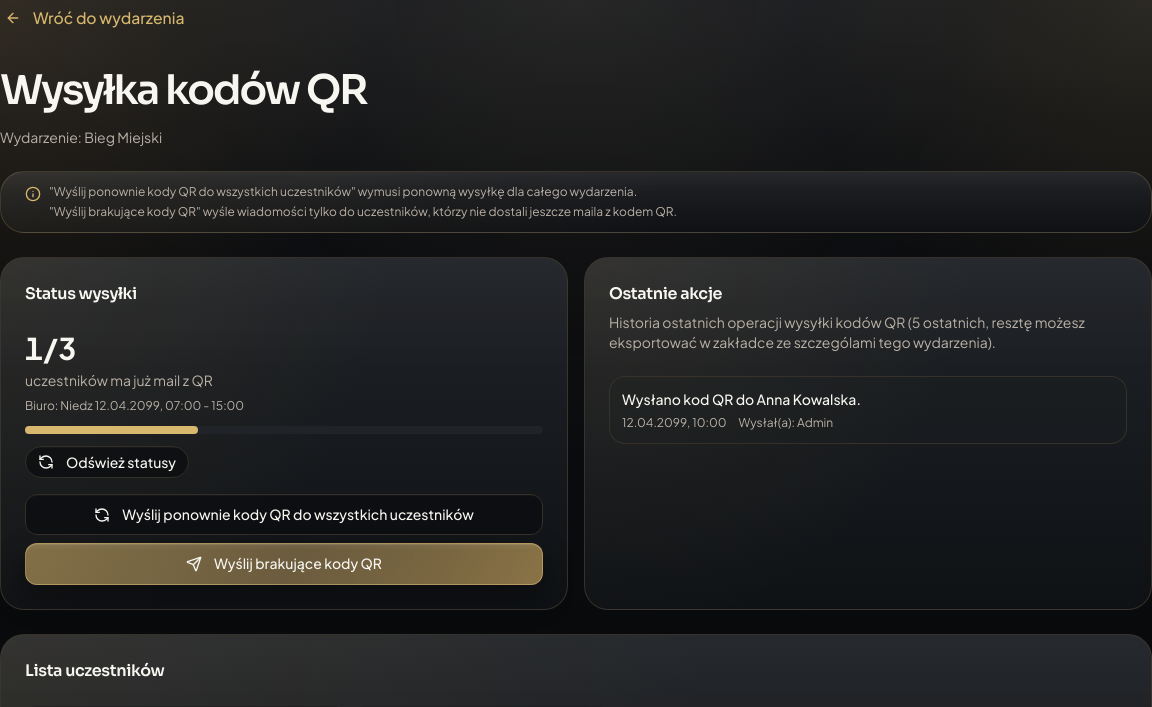
EmailSending page › counts only participants without a QR email in the confirmation modal
Step 1. Click the button "Wyślij brakujące kody QR" → (284,564), box [25, 543, 543, 585]
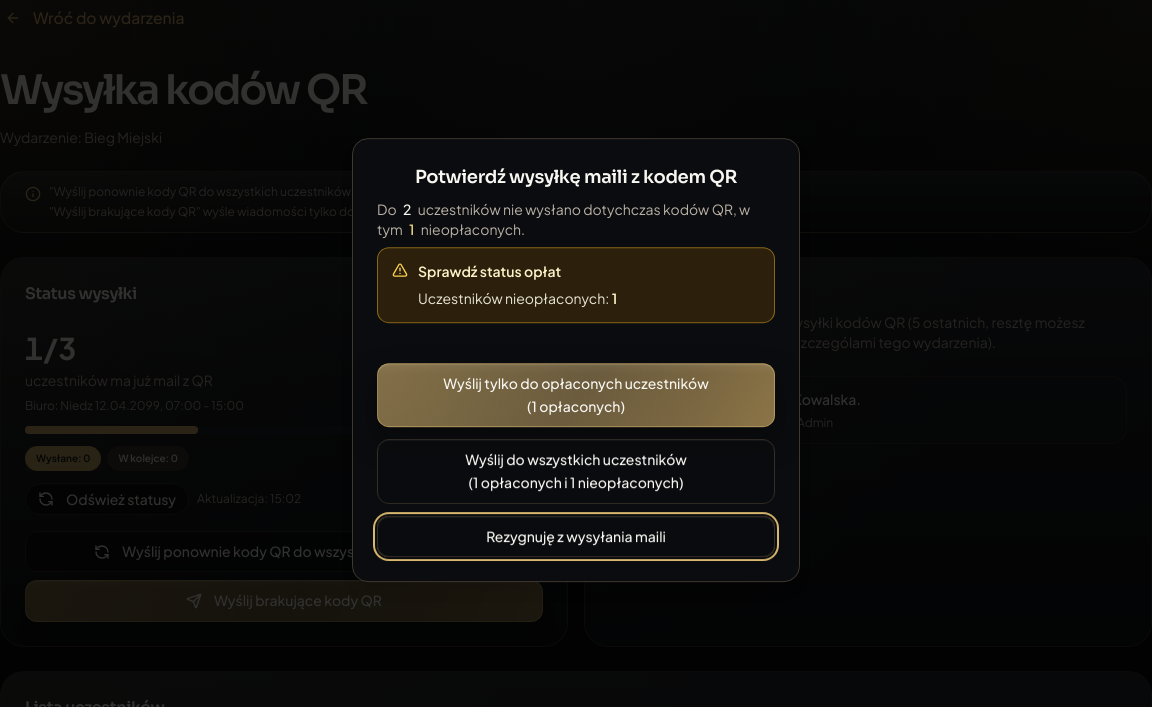
Now the dialog shows "Do 2 uczestników nie wysłano dotychczas kodów QR, w tym 1 nieopłaconych.", box [352, 138, 800, 582]
Now the dialog shows "Sprawdź status opłat", box [418, 262, 561, 280]
Now the button that starts with "Wyślij do wszystkich uczestników" shows "(1 opłaconych i 1 nieopłaconych)", box [377, 439, 775, 504]
